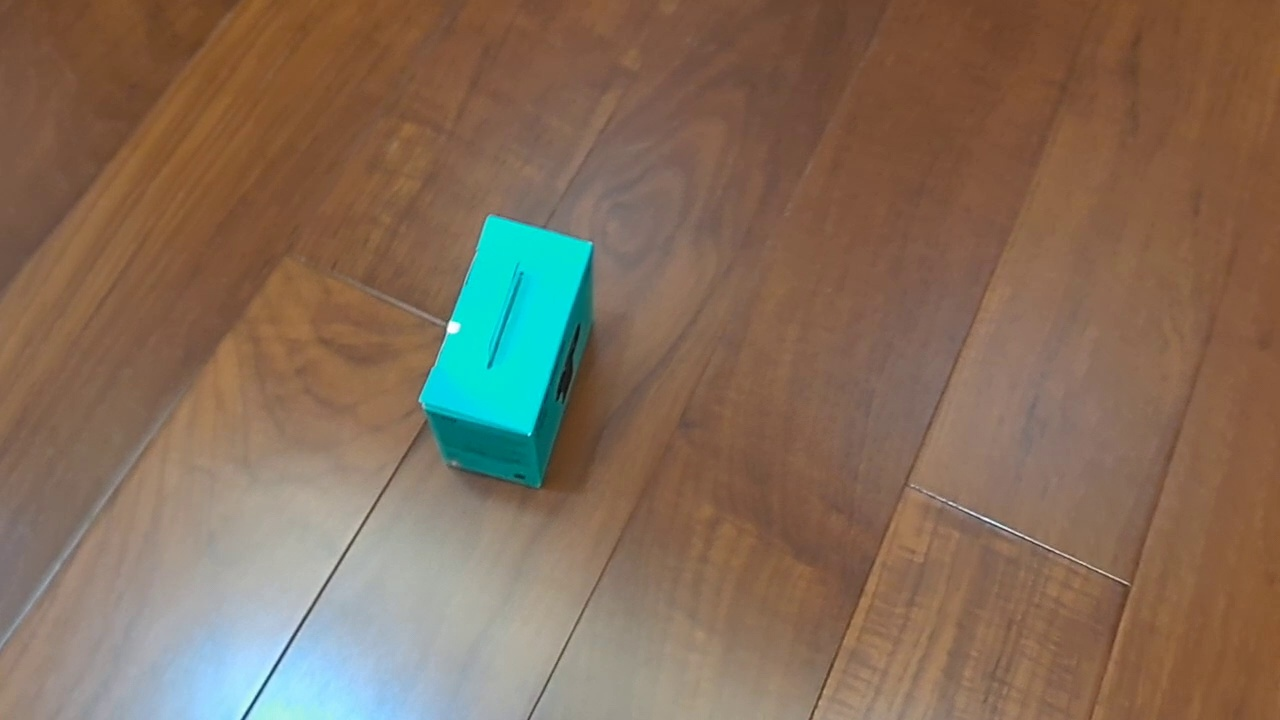webcam: (417, 213, 597, 489)
